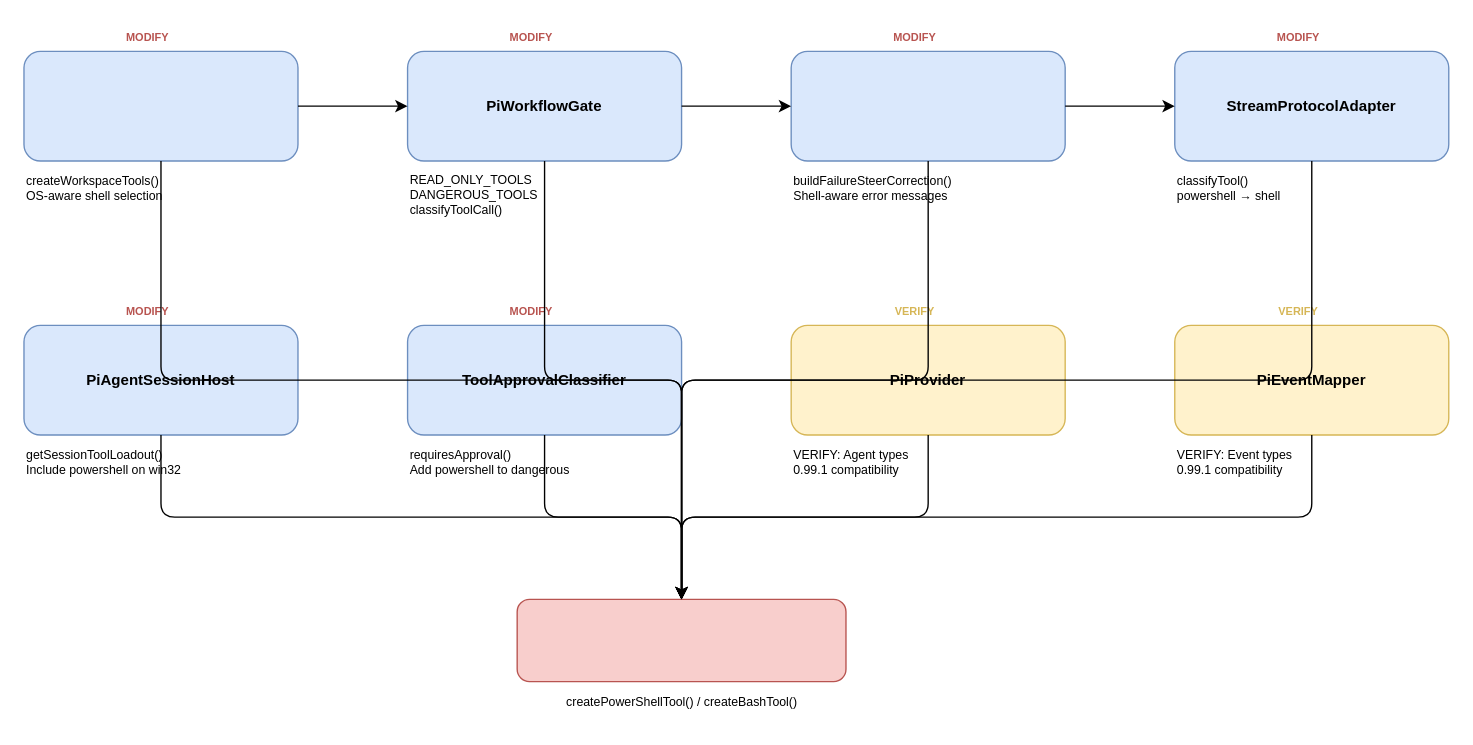
Image size: 1473x745. Some labels were removed from this diagram. The shapes that lost their labels are listed below. From the top down, each one's box as (x1, y1, x2, y2) in pixels, then its label:
(23, 50, 298, 161): PiCodingTools
(790, 50, 1065, 161): TurnBudgetGuard
(516, 598, 846, 682): pi-coding-agent 0.99.1
